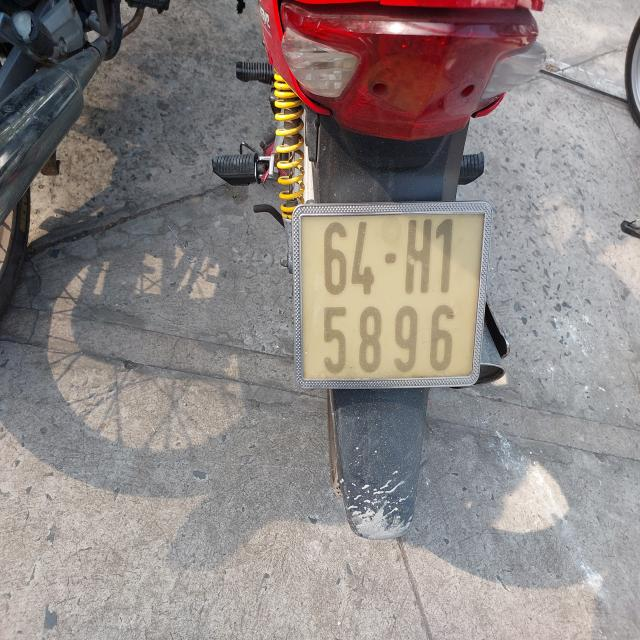1: (436, 219, 458, 296)
4: (352, 215, 379, 299)
5: (324, 306, 349, 372)
6: (322, 219, 350, 300), (430, 306, 456, 374)
8: (358, 307, 384, 374)
9: (391, 306, 419, 370)
H: (404, 216, 434, 296)
